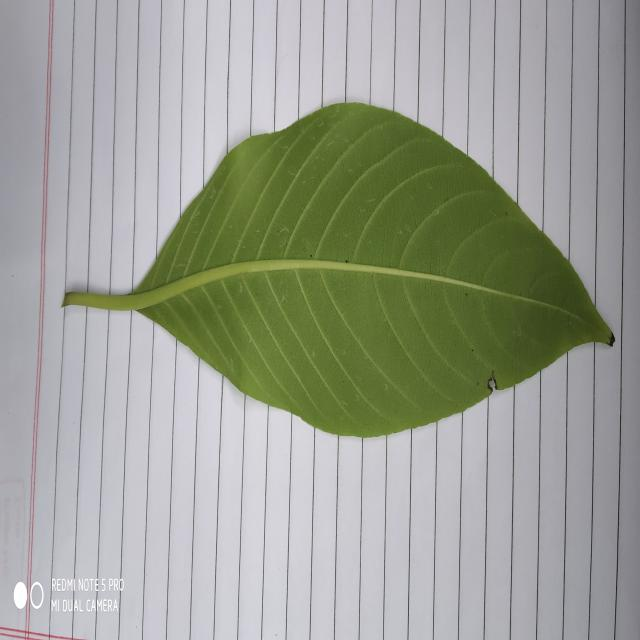leaf spot: (0, 0, 640, 638)
malabar_nut: (62, 102, 614, 438)
